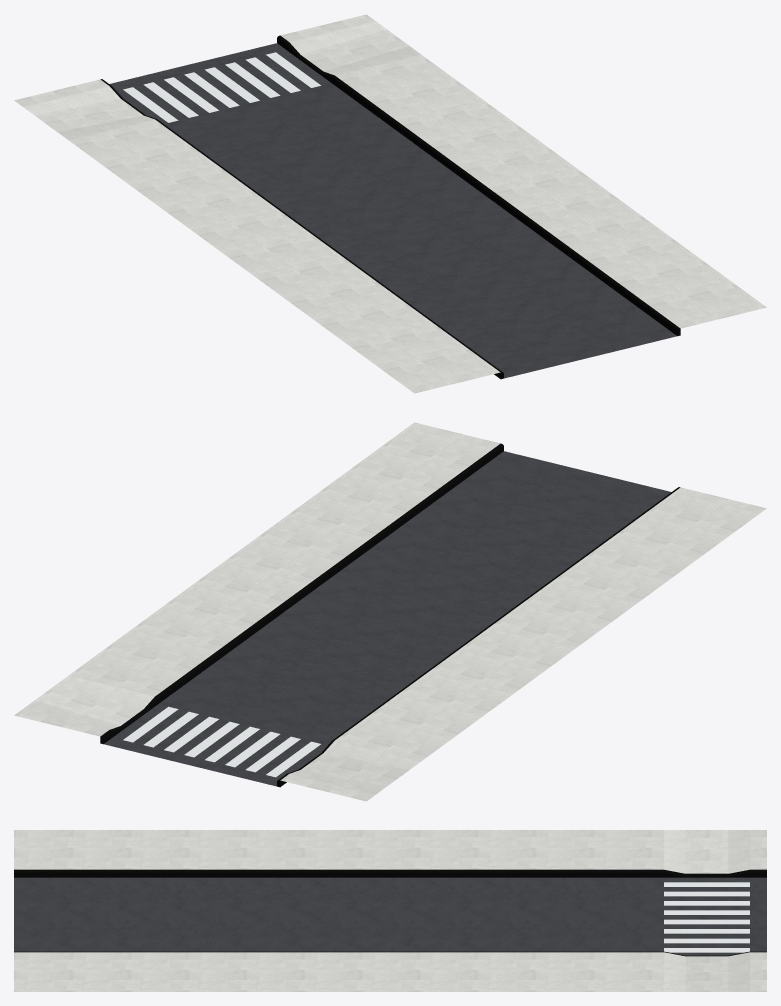
The model's file is esquina 1 carril y estacionamiento.fbx.
3 views of the same model, one above another, from view 1: azimuth 30°, elevation 25°; view 2: azimuth 150°, elevation 25°; view 3: azimuth 270°, elevation 25° (orthographic). The views are drawn at different scales.
Visible parts, largest first — view 1: Plane.008; view 2: Plane.008; view 3: Plane.008.
Part boxes in pixels (left/top/right/bottom): Plane.008: left=14, top=14, right=766, bottom=393; Plane.008: left=14, top=422, right=766, bottom=801; Plane.008: left=14, top=830, right=766, bottom=991.
Size of the model in its own units: 1016 by 30.85 by 2000.
Materials: 4 (4 with a texture image).
